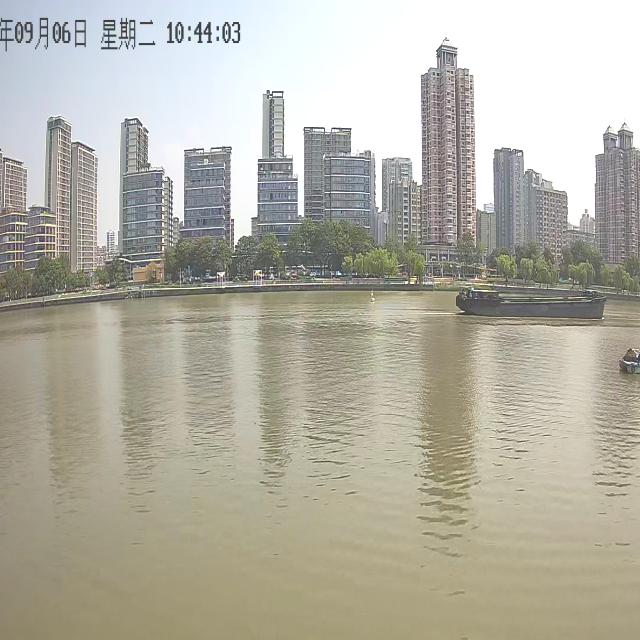ship: (455, 284, 606, 318), (618, 334, 640, 375)
